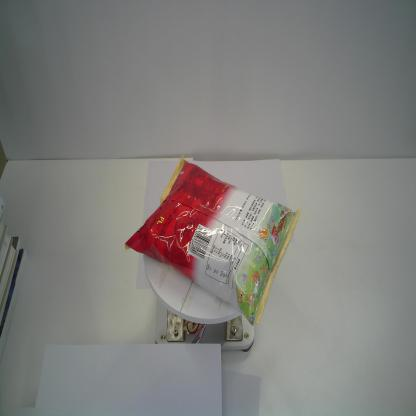Puffed Food: (124, 154, 301, 326)
